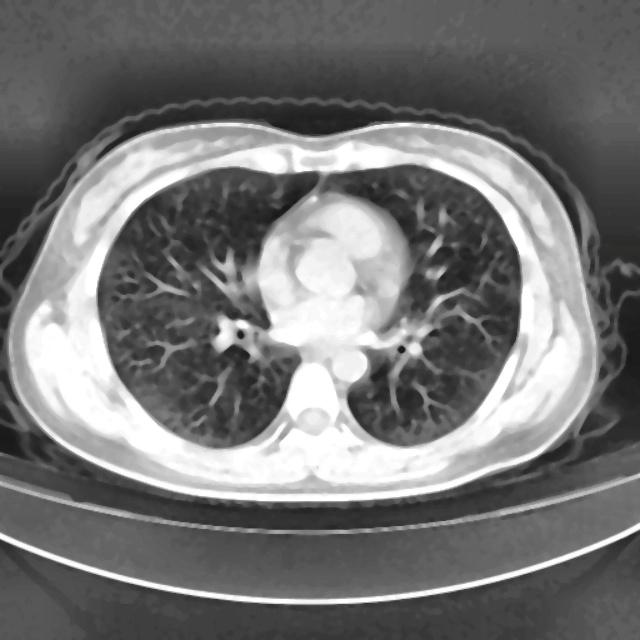covid: (6, 114, 615, 506)
